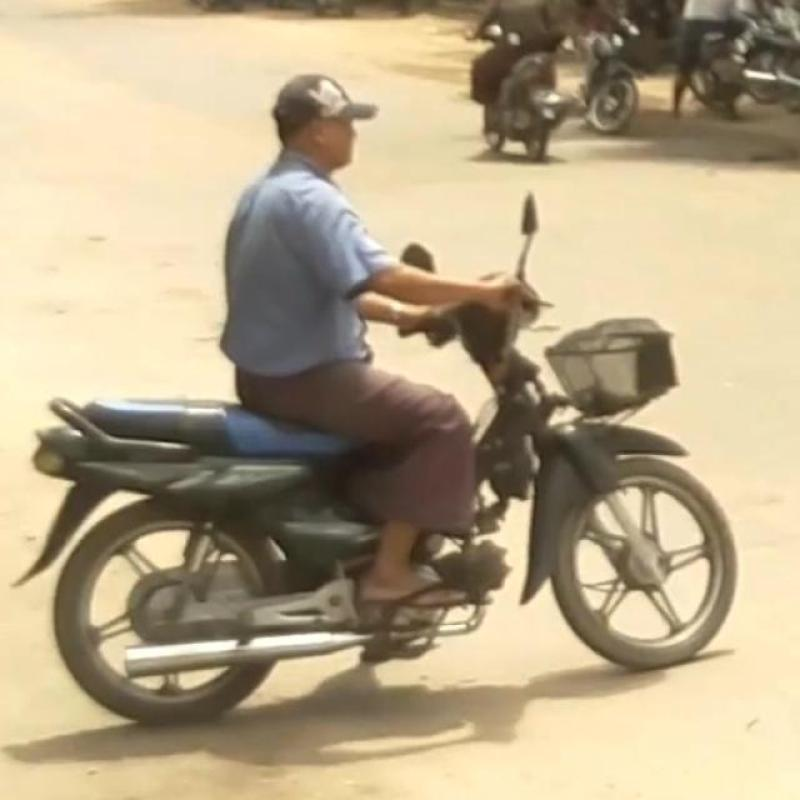nohelmet: (284, 70, 426, 181)
